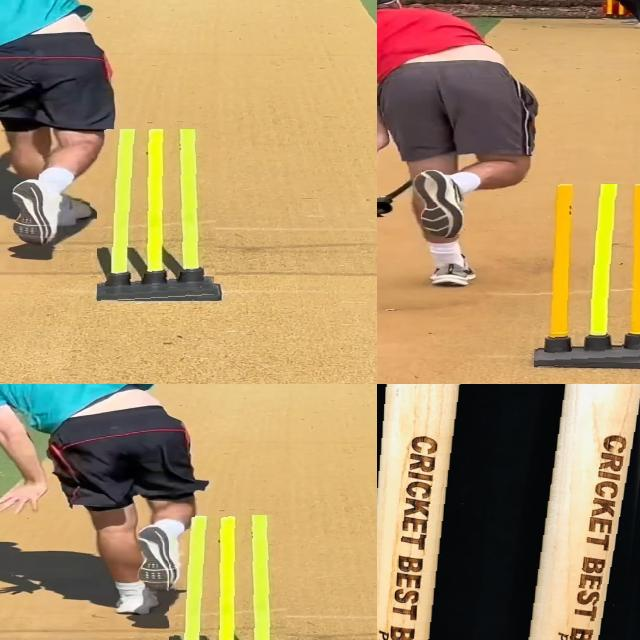Stumps: (377, 384, 640, 640), (98, 129, 220, 302), (534, 184, 640, 367), (169, 515, 289, 640)
